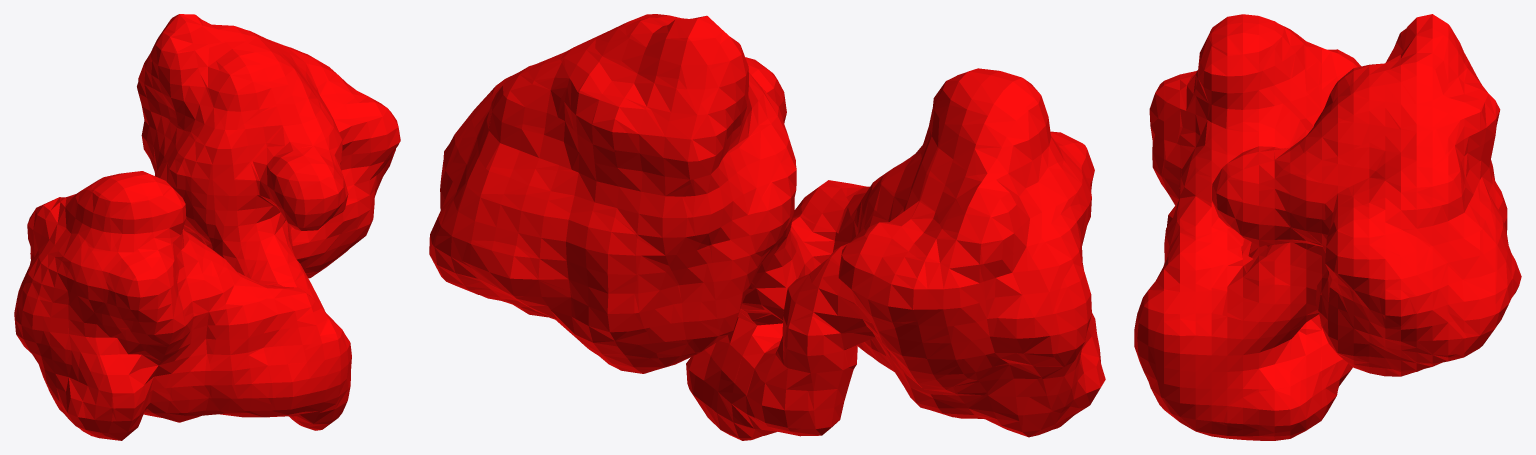
Rendered from wecC_coarse.dae.
3 views of the same model, side by side, from view 1: azimuth 30°, elevation 25°; view 2: azimuth 150°, elevation 25°; view 3: azimuth 270°, elevation 25° (orthographic). The views are drawn at different scales.
Parts seen in each view (by area): view 1: wecC; view 2: wecC; view 3: wecC.
Boxes of the visible parts, left/top/right/bottom form: wecC: left=14, top=14, right=400, bottom=440; wecC: left=429, top=14, right=1105, bottom=440; wecC: left=1134, top=14, right=1521, bottom=440.
Bounding box in the file's own units: 85.66 × 69.42 × 60.29.
